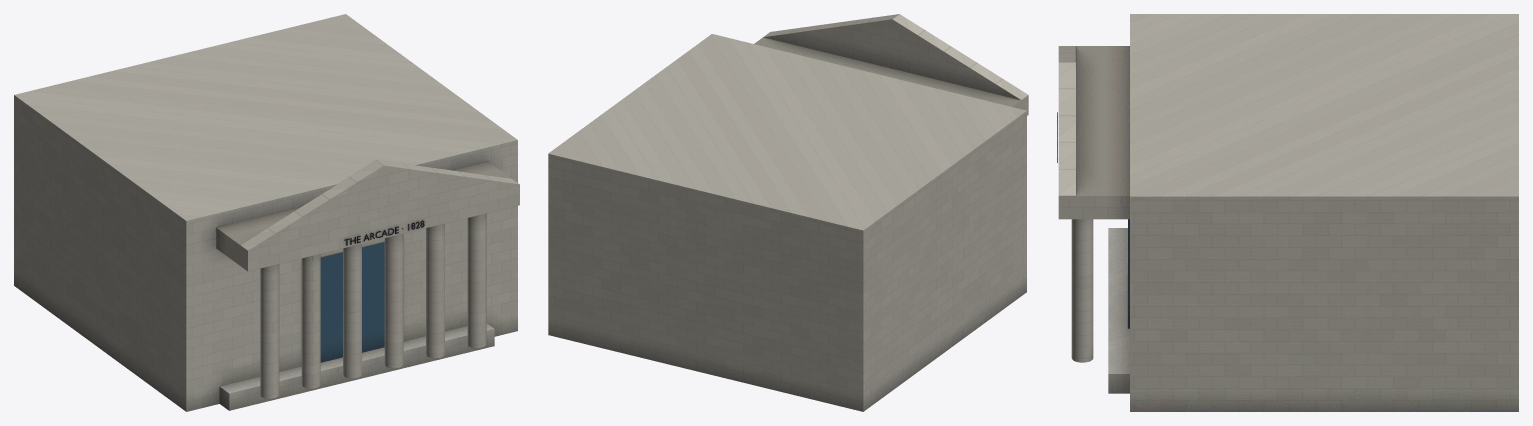
File: arcade_ri.glb
3 renders of one model, left to right at view 1: azimuth 30°, elevation 25°; view 2: azimuth 150°, elevation 25°; view 3: azimuth 270°, elevation 25°, orthographic. The views are drawn at different scales.
Parts seen in each view (by area): view 1: arcade_ri; view 2: arcade_ri; view 3: arcade_ri.
Boxes of the visible parts, <box> form: arcade_ri: <box>14,14,519,411</box>; arcade_ri: <box>548,14,1028,411</box>; arcade_ri: <box>1057,14,1518,411</box>.
Size of the model in its own units: 20 by 13.2 by 21.38.
Materials: 1 (1 with a texture image).
